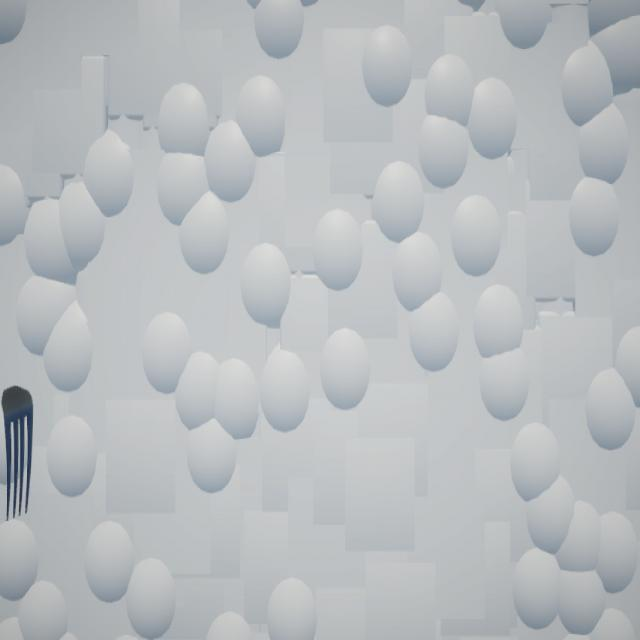top_folk: (2, 386, 34, 522)
